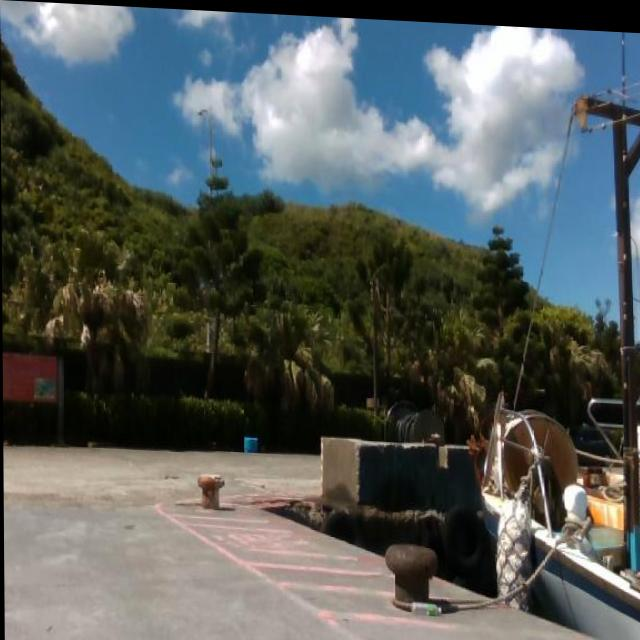pollute: (243, 434, 259, 450)
